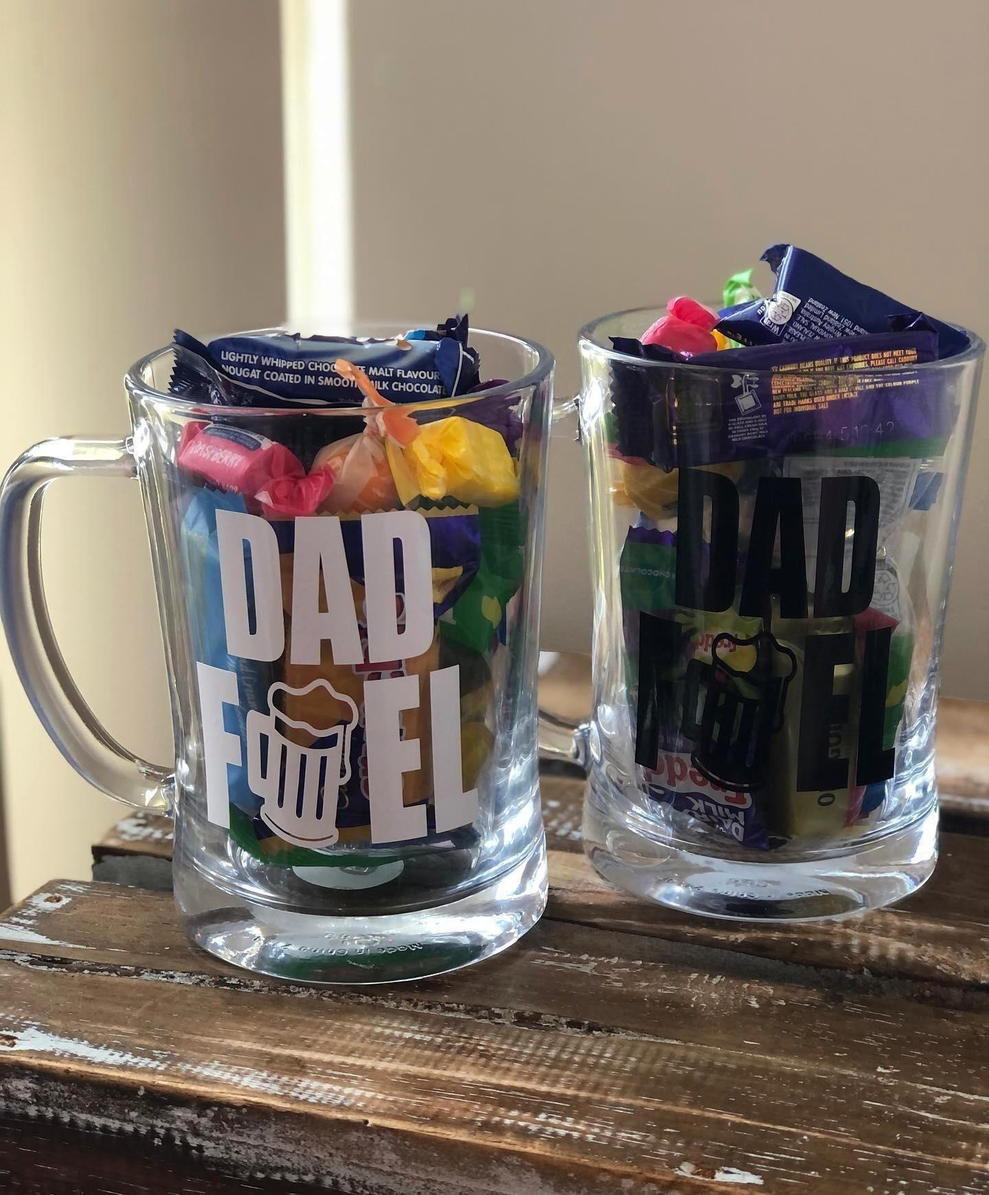glass-mug: (0, 293, 572, 1012), (548, 289, 989, 937)
